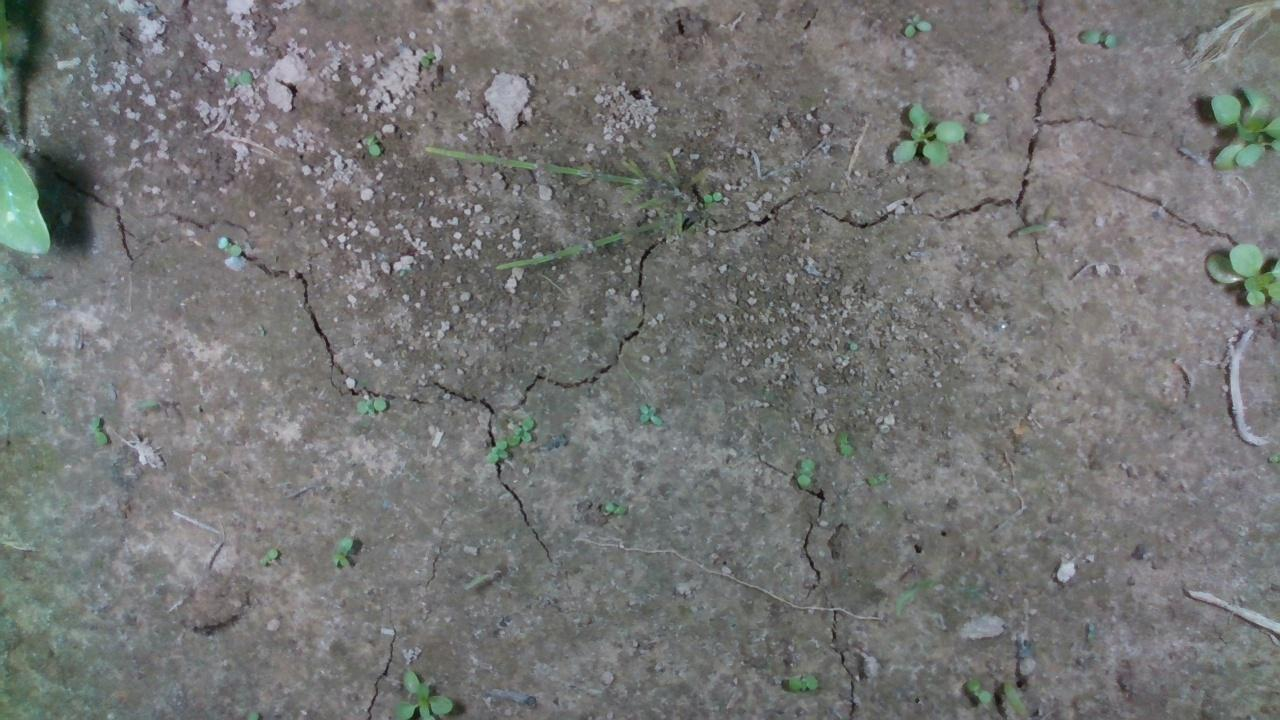weed: (899, 9, 946, 49), (331, 532, 355, 576), (220, 233, 251, 263), (355, 391, 384, 421), (634, 400, 666, 427), (256, 544, 283, 569), (797, 454, 814, 492), (366, 132, 384, 157)
